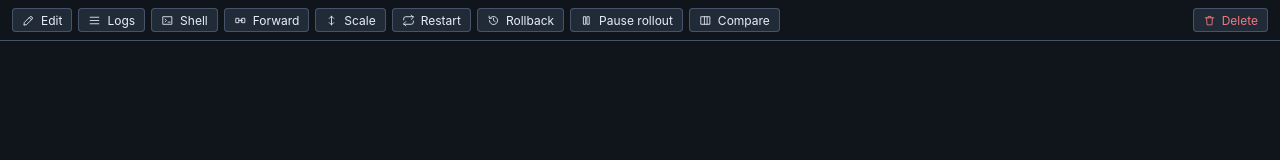
typing past the end of the slider moves the end out
This screenshot has width=1280, height=160.
Click the button "Scale" at point(351, 20), box [315,8,386,32]
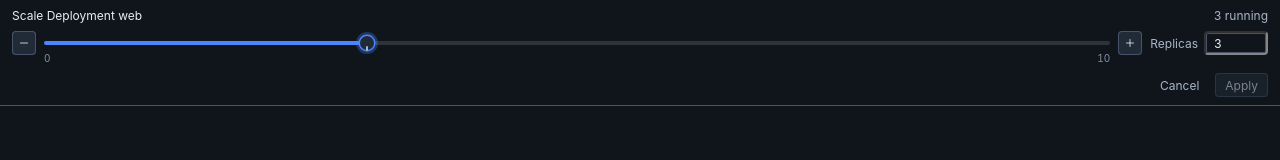
Expected: the slider named "Replica count" is shown, [44,34,1110,52]
Replace the text in the number field labelled "Replicas" with "40" at point(1236, 43), box [1204,31,1268,55]
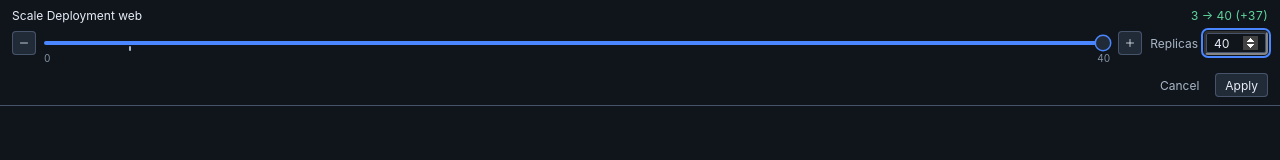
Expected: the slider named "Replica count" holds "40", [44,34,1110,52]
